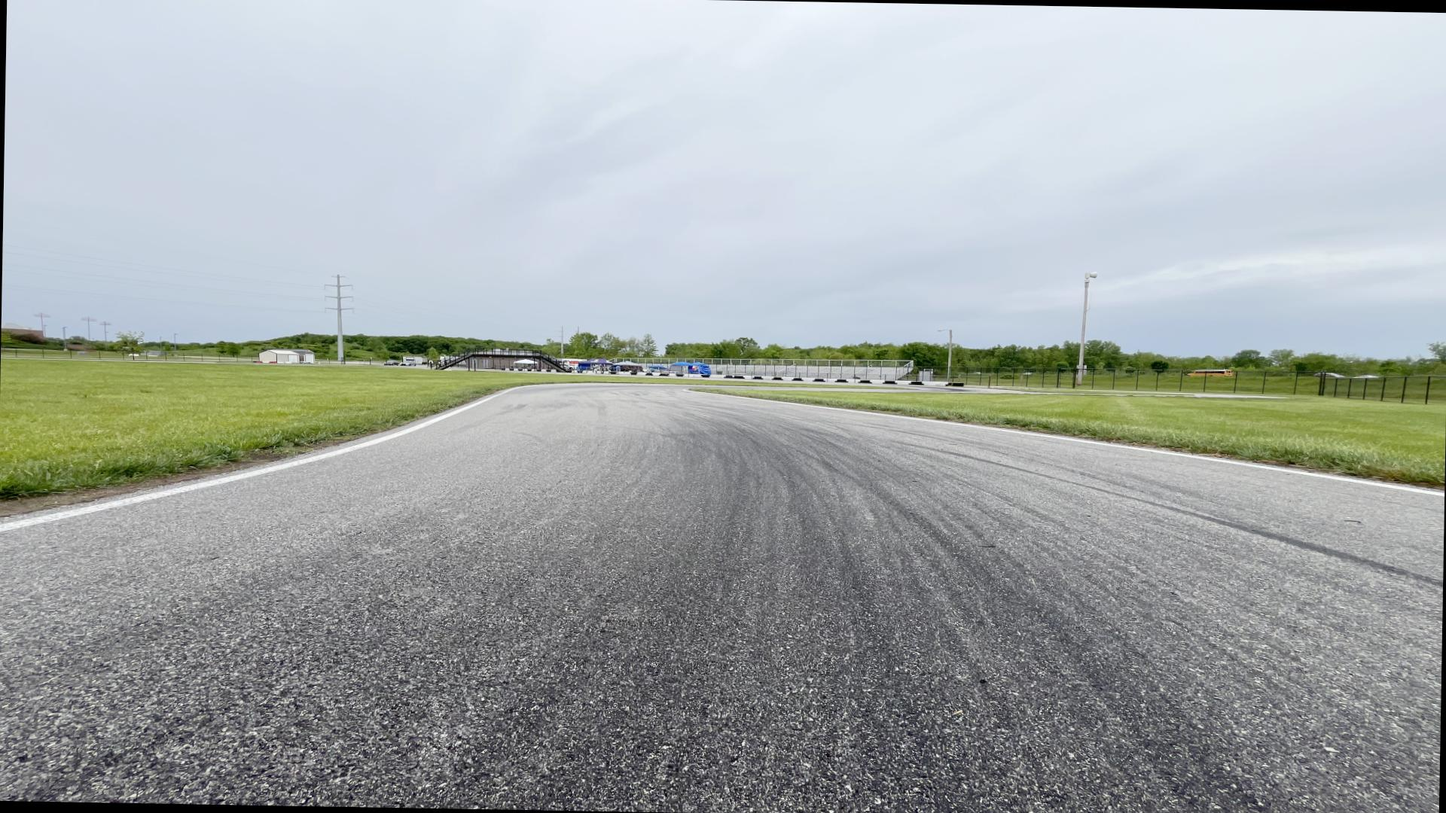white-line: (0, 384, 589, 533), (682, 389, 1444, 496)
